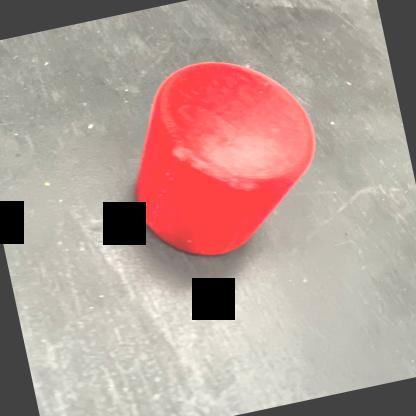red cylinder: (106, 39, 339, 272)
